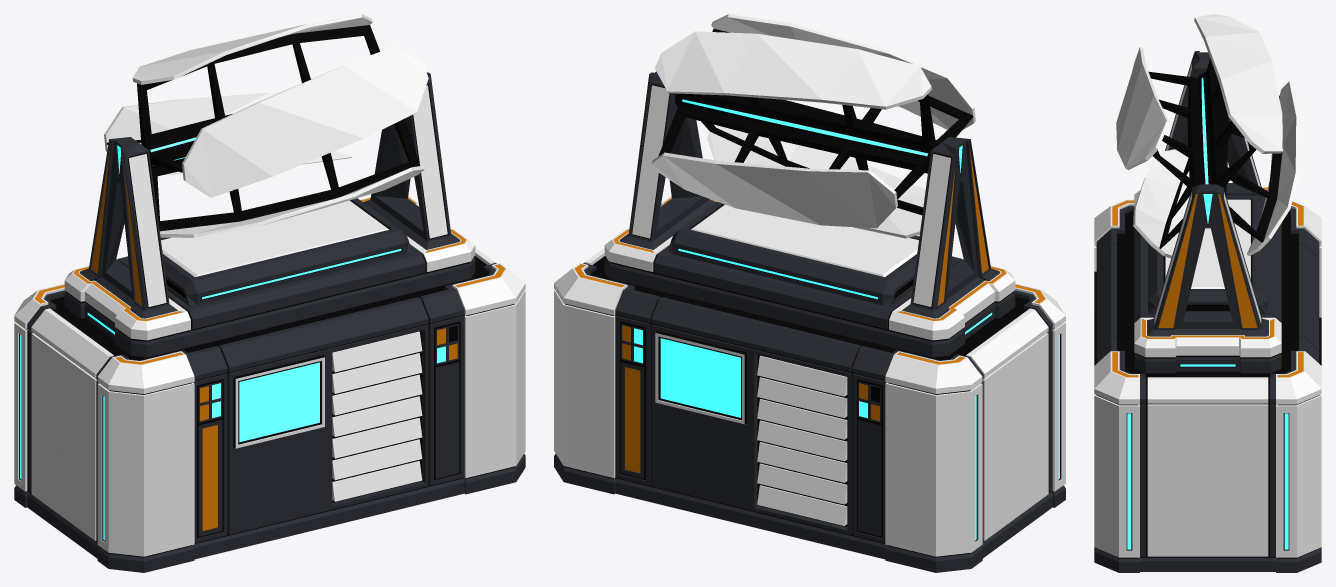
The model's file is SM_Wind_T1.fbx.
The picture shows the model from 3 angles, left to right: view 1: azimuth 30°, elevation 25°; view 2: azimuth 150°, elevation 25°; view 3: azimuth 270°, elevation 25°; orthographic projection. The views are drawn at different scales.
Parts seen in each view (by area): view 1: SM_Wind_T1_Base, SM_Wind_T1_Rotor; view 2: SM_Wind_T1_Base, SM_Wind_T1_Rotor; view 3: SM_Wind_T1_Base, SM_Wind_T1_Rotor.
Boxes of the visible parts, left/top/right/bottom form: SM_Wind_T1_Base: left=14, top=72, right=525, bottom=572; SM_Wind_T1_Rotor: left=104, top=14, right=428, bottom=237; SM_Wind_T1_Base: left=554, top=71, right=1065, bottom=572; SM_Wind_T1_Rotor: left=651, top=14, right=975, bottom=238; SM_Wind_T1_Base: left=1094, top=51, right=1321, bottom=572; SM_Wind_T1_Rotor: left=1116, top=14, right=1299, bottom=258.
Size of the model in its own units: 200 by 204 by 100.
